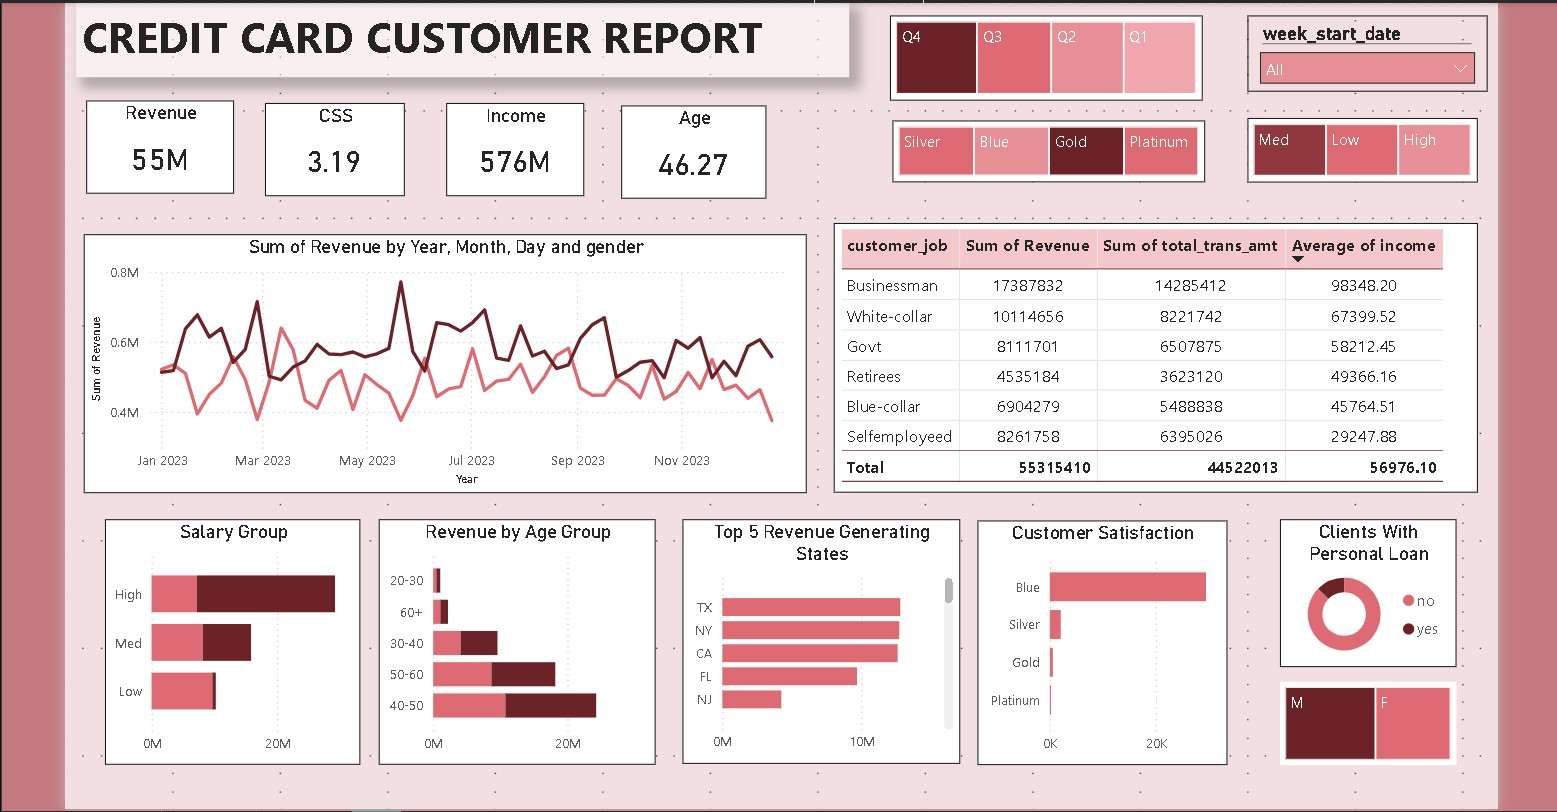

The page's visual inventory and layout, read from the dashboard file:
{"tool":"powerbi","page":{"name":"Page 1","canvas":[1280,720],"ordinal":1},"visuals":[{"type":"textbox","box":[9.8,0,690.5,66.5],"z":0},{"type":"tableEx","fields":{"Values":["public cust_detail.customer_job","Sum(public cc_detail.Revenue)","Sum(public cc_detail.total_trans_amt)","Avg(public cust_detail.income)","public cc_detail.delinquent_acc"]},"box":[599.4,185.8,670.8,241.2],"z":1000},{"type":"card","title":"Revenue","fields":{"Values":["Sum(public cc_detail.Revenue)"]},"box":[18.7,87.3,132.2,83.5],"z":2000},{"type":"card","title":"CSS","fields":{"Values":["Avg(public cust_detail.cust_satisfaction_score)"]},"box":[178.3,89.8,124.7,83.5],"z":3000},{"type":"card","title":"Age","fields":{"Values":["Avg(public cust_detail.customer_age)"]},"box":[496.2,91,129.7,83.5],"z":4000},{"type":"card","title":"Income","fields":{"Values":["Sum(public cust_detail.income)"]},"box":[340.4,89.8,123.4,83.5],"z":5000},{"type":"slicer","fields":{"Values":["public cc_detail.week_start_date"]},"box":[1056,11.1,214.2,67.7],"z":6000},{"type":"treemap","fields":{"Group":["public cc_detail.qtr"],"Values":["Avg(public cc_detail.client_num)"]},"box":[737.2,11.1,279.4,76.3],"z":7000},{"type":"treemap","fields":{"Group":["public cc_detail.card_category"],"Values":["Avg(public cc_detail.client_num)"]},"box":[738.5,104.6,279.4,55.4],"z":8000},{"type":"treemap","fields":{"Group":["public cust_detail.IncomeGroup"],"Values":["Avg(public cc_detail.client_num)"]},"box":[1056,102.2,205.5,57.8],"z":9000},{"type":"actionButton","box":[0,0,100,40],"z":10000},{"type":"lineChart","fields":{"Series":["public cust_detail.gender"],"Y":["Sum(public cc_detail.Revenue)"],"Category":["public cc_detail.week_start_date.Variation.Date Hierarchy.Year","public cc_detail.week_start_date.Variation.Date Hierarchy.Month","public cc_detail.week_start_date.Variation.Date Hierarchy.Day"]},"box":[18.5,185.8,566.2,241.2],"z":11000},{"type":"barChart","title":"Salary Group","fields":{"Category":["public cust_detail.IncomeGroup"],"Y":["Sum(public cc_detail.Revenue)"],"Series":["public cust_detail.gender"]},"box":[36.2,461.3,228.2,219.4],"z":12000},{"type":"barChart","title":"Revenue by Age Group","fields":{"Category":["public cust_detail.AgeGroup"],"Y":["Sum(public cc_detail.Revenue)"],"Series":["public cust_detail.gender"]},"box":[280.5,461.3,246.9,219.4],"z":13000},{"type":"clusteredBarChart","title":"Top 5 Revenue Generating States","fields":{"Category":["public cust_detail.state_cd"],"Y":["Sum(public cc_detail.Revenue)"]},"box":[551.1,461.3,248.1,218.2],"z":14000},{"type":"barChart","title":"Customer Satisfaction","fields":{"Category":["public cc_detail.card_category"],"Y":["Sum(public cust_detail.cust_satisfaction_score)"]},"box":[815.4,462.5,223.2,218.2],"z":15000},{"type":"donutChart","title":"Clients With Personal Loan","fields":{"Category":["public cust_detail.personal_loan"],"Y":["CountNonNull(public cust_detail.client_num)"]},"box":[1051.1,461.5,157.5,131.7],"z":16000},{"type":"treemap","fields":{"Group":["public cust_detail.gender"],"Values":["Sum(public cc_detail.Revenue)"]},"box":[1051.1,605.5,157.5,73.8],"z":17000}]}

Visuals, with their boxes on the page's 1280x720 design canvas (x1, y1, x2, y2). These are canvas units, not pixel positions in the 1557x812 screenshot, which may show the page scaled, cropped or inside an application window:
textbox: rect(10, 0, 700, 66)
tableEx - public cust_detail.customer_job x Sum(public cc_detail.Revenue): rect(599, 186, 1270, 427)
"Revenue" card: rect(19, 87, 151, 171)
"CSS" card: rect(178, 90, 303, 173)
"Age" card: rect(496, 91, 626, 174)
"Income" card: rect(340, 90, 464, 173)
slicer - public cc_detail.week_start_date: rect(1056, 11, 1270, 79)
treemap - public cc_detail.qtr x Avg(public cc_detail.client_num): rect(737, 11, 1017, 87)
treemap - public cc_detail.card_category x Avg(public cc_detail.client_num): rect(738, 105, 1018, 160)
treemap - public cust_detail.IncomeGroup x Avg(public cc_detail.client_num): rect(1056, 102, 1262, 160)
actionButton: rect(0, 0, 100, 40)
lineChart - public cust_detail.gender x Sum(public cc_detail.Revenue): rect(18, 186, 585, 427)
"Salary Group" barChart: rect(36, 461, 264, 681)
"Revenue by Age Group" barChart: rect(280, 461, 527, 681)
"Top 5 Revenue Generating States" clusteredBarChart: rect(551, 461, 799, 680)
"Customer Satisfaction" barChart: rect(815, 462, 1039, 681)
"Clients With Personal Loan" donutChart: rect(1051, 462, 1209, 593)
treemap - public cust_detail.gender x Sum(public cc_detail.Revenue): rect(1051, 606, 1209, 679)
